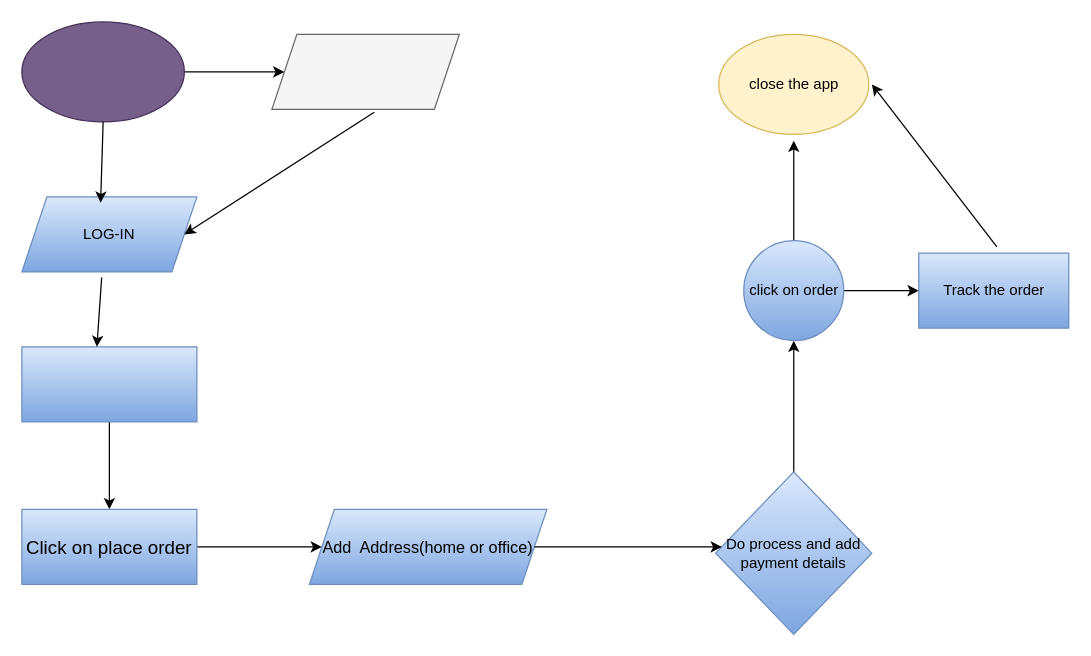
Some shapes in this 1091 by 656 pixel diagram are drawn without their labels. Here are the shapes that lost their labels. From the top down, the box of each, then its label:
(21, 21, 184, 122): Install Application
(271, 33, 459, 109): Regiser
(21, 346, 197, 422): Search for Food
